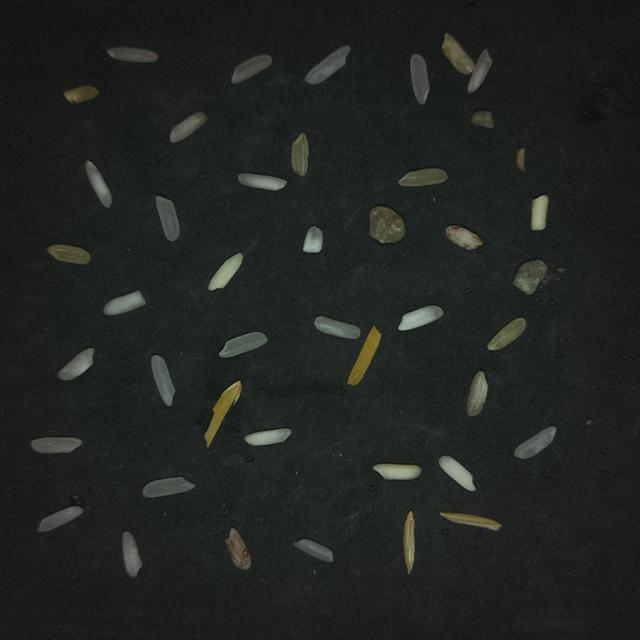broken: (170, 111, 207, 142), (59, 347, 94, 379), (467, 49, 493, 92), (122, 530, 142, 576), (294, 538, 333, 561)
chalky: (208, 252, 243, 290), (439, 455, 476, 490), (85, 160, 112, 207), (398, 305, 443, 330), (104, 290, 146, 314), (238, 172, 286, 190), (244, 427, 291, 445), (373, 463, 421, 479), (531, 194, 548, 229), (303, 225, 323, 252)
discolored: (348, 325, 381, 384), (442, 32, 474, 73), (487, 316, 526, 349), (467, 370, 488, 415), (47, 243, 90, 264), (399, 167, 447, 185), (291, 133, 309, 176), (64, 85, 98, 102), (471, 110, 494, 127), (517, 147, 525, 170)
foreign: (370, 205, 405, 242), (513, 259, 547, 294)
paddy: (205, 380, 242, 446), (440, 511, 501, 529), (404, 510, 415, 572)
red: (225, 527, 251, 569), (446, 225, 483, 249)
whole: (305, 45, 350, 83), (514, 425, 556, 458), (219, 331, 268, 357), (232, 53, 272, 83), (152, 354, 174, 405), (39, 505, 83, 530), (314, 315, 360, 338), (156, 195, 179, 240), (143, 476, 194, 496), (410, 53, 429, 104), (30, 436, 82, 452), (107, 46, 158, 62)
